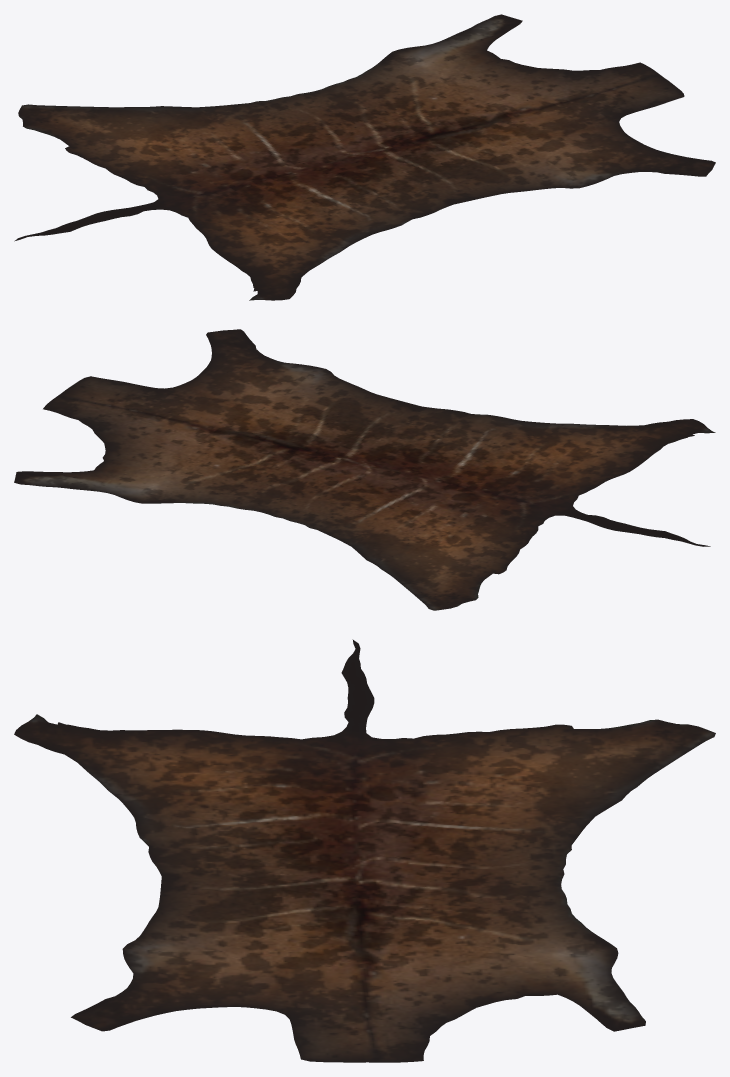
The model's file is SM_AnimalHide2.fbx.
The picture shows the model from 3 angles, top to bottom: view 1: azimuth 30°, elevation 25°; view 2: azimuth 150°, elevation 25°; view 3: azimuth 270°, elevation 25°; orthographic projection. The views are drawn at different scales.
Parts seen in each view (by area): view 1: SM_AnimalHide2_LOD0; view 2: SM_AnimalHide2_LOD0; view 3: SM_AnimalHide2_LOD0.
Boxes of the visible parts, x1,y1,x2,y2 form: SM_AnimalHide2_LOD0: (14, 14, 715, 300); SM_AnimalHide2_LOD0: (14, 329, 715, 610); SM_AnimalHide2_LOD0: (14, 639, 715, 1062).
Bounding box in the file's own units: 353 × 247 × 4.29e-06.
Materials: 1 (1 with a texture image).
